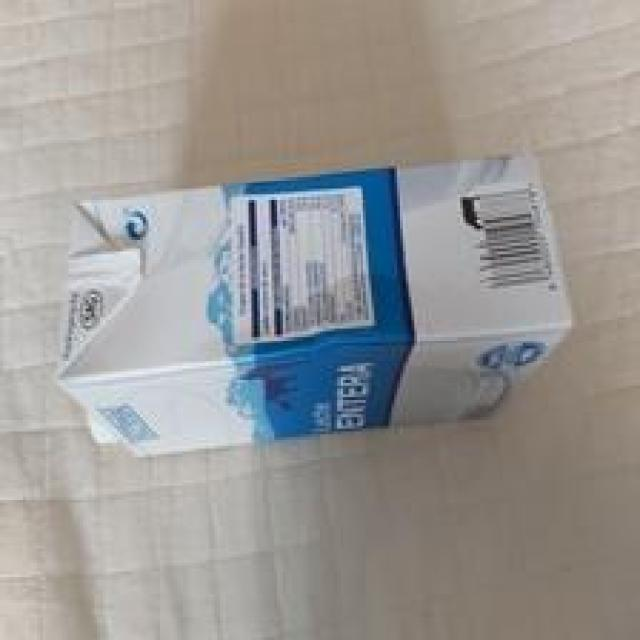Carton: (55, 152, 571, 458)
